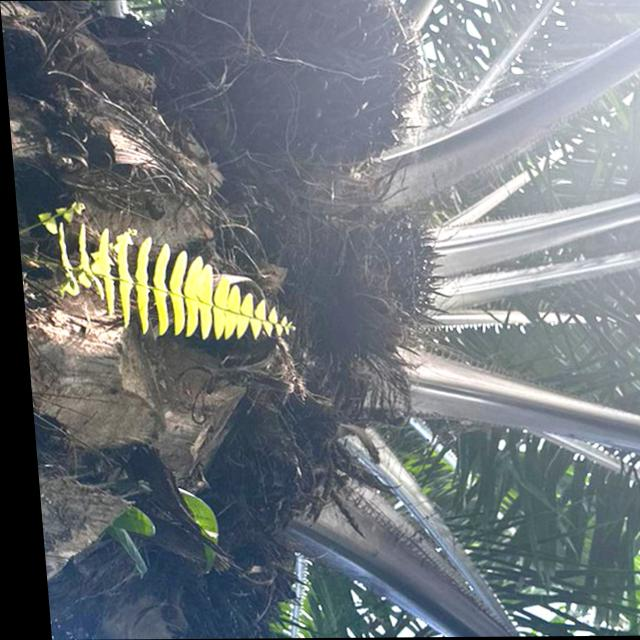unripe: (138, 0, 444, 188), (297, 195, 464, 372)
